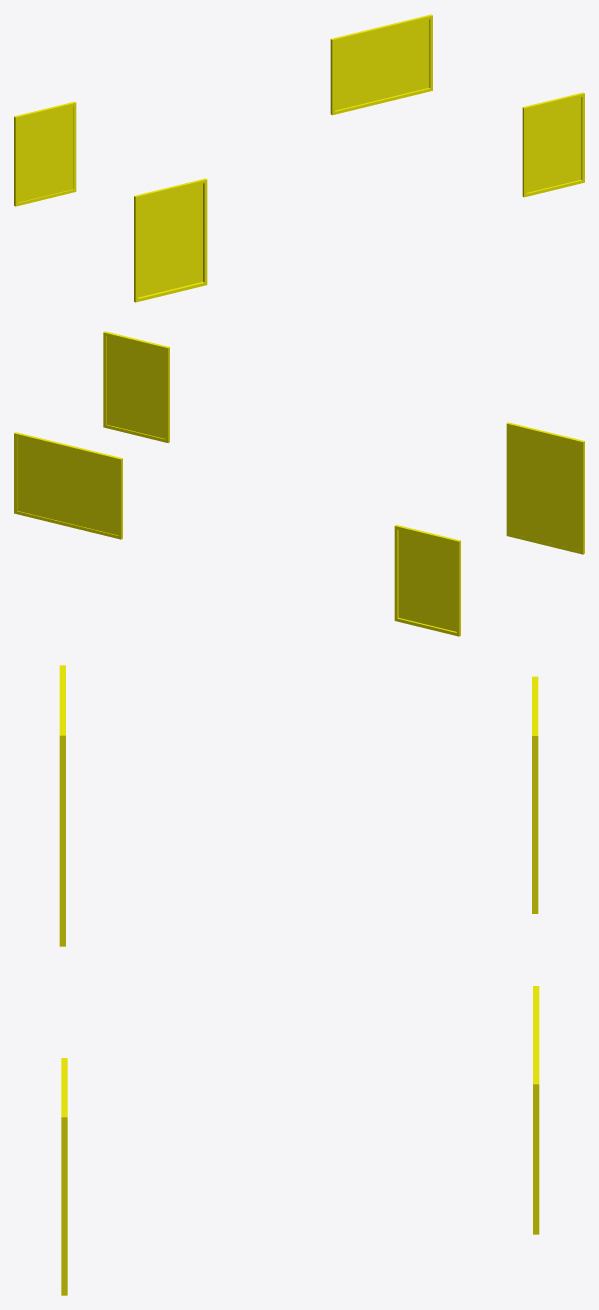
File: Posters.FBX
3 renders of one model, top to bottom at view 1: azimuth 30°, elevation 25°; view 2: azimuth 150°, elevation 25°; view 3: azimuth 270°, elevation 25°, orthographic. The views are drawn at different scales.
Parts seen in each view (by area): view 1: posters; view 2: posters; view 3: posters.
Boxes of the visible parts, x1,y1,x2,y2 form: posters: (14, 14, 584, 302); posters: (14, 331, 584, 636); posters: (59, 665, 539, 1295).
Size of the model in its own units: 4.97 by 2.28 by 1.11.
